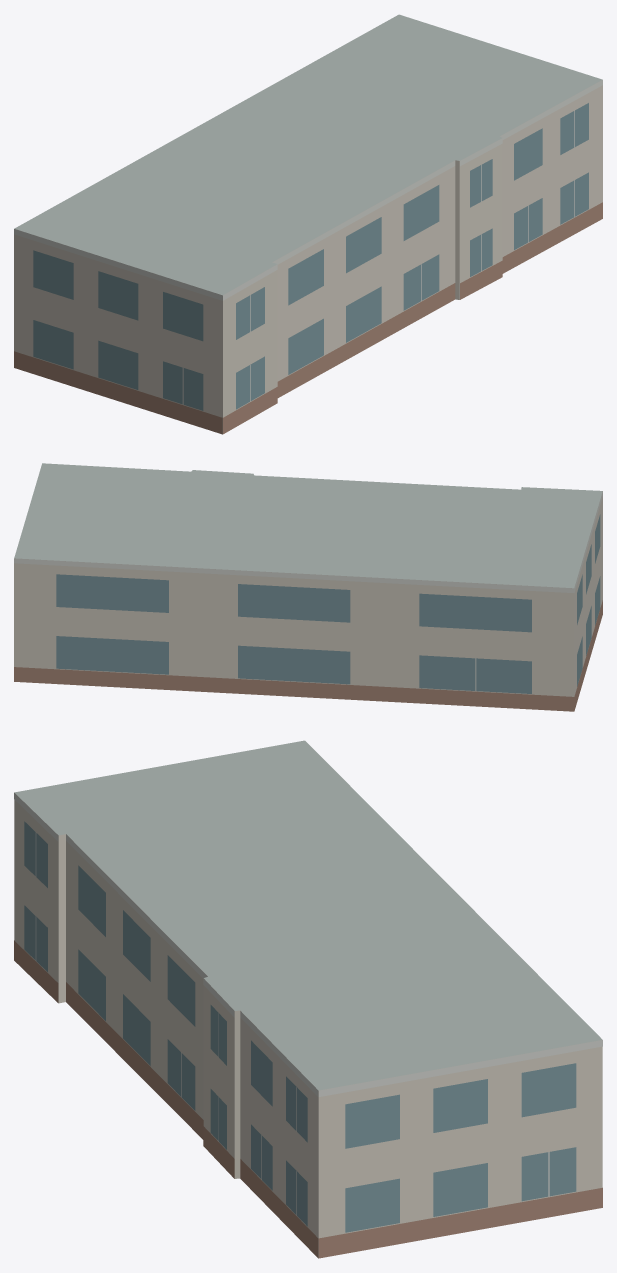
The model's file is survey-upis-32549006.glb.
3 views of the same model, one above another, from view 1: azimuth 30°, elevation 25°; view 2: azimuth 150°, elevation 25°; view 3: azimuth 270°, elevation 25° (orthographic). The views are drawn at different scales.
Visible parts, largest first — view 1: survey-upis-32549006.tmp; view 2: survey-upis-32549006.tmp; view 3: survey-upis-32549006.tmp.
Part boxes in pixels (box(x1,y1,x2,y2)): survey-upis-32549006.tmp: box(14, 14, 602, 434); survey-upis-32549006.tmp: box(14, 463, 602, 711); survey-upis-32549006.tmp: box(14, 740, 602, 1258).
Size of the model in its own units: 27.28 by 6.1 by 19.39.
